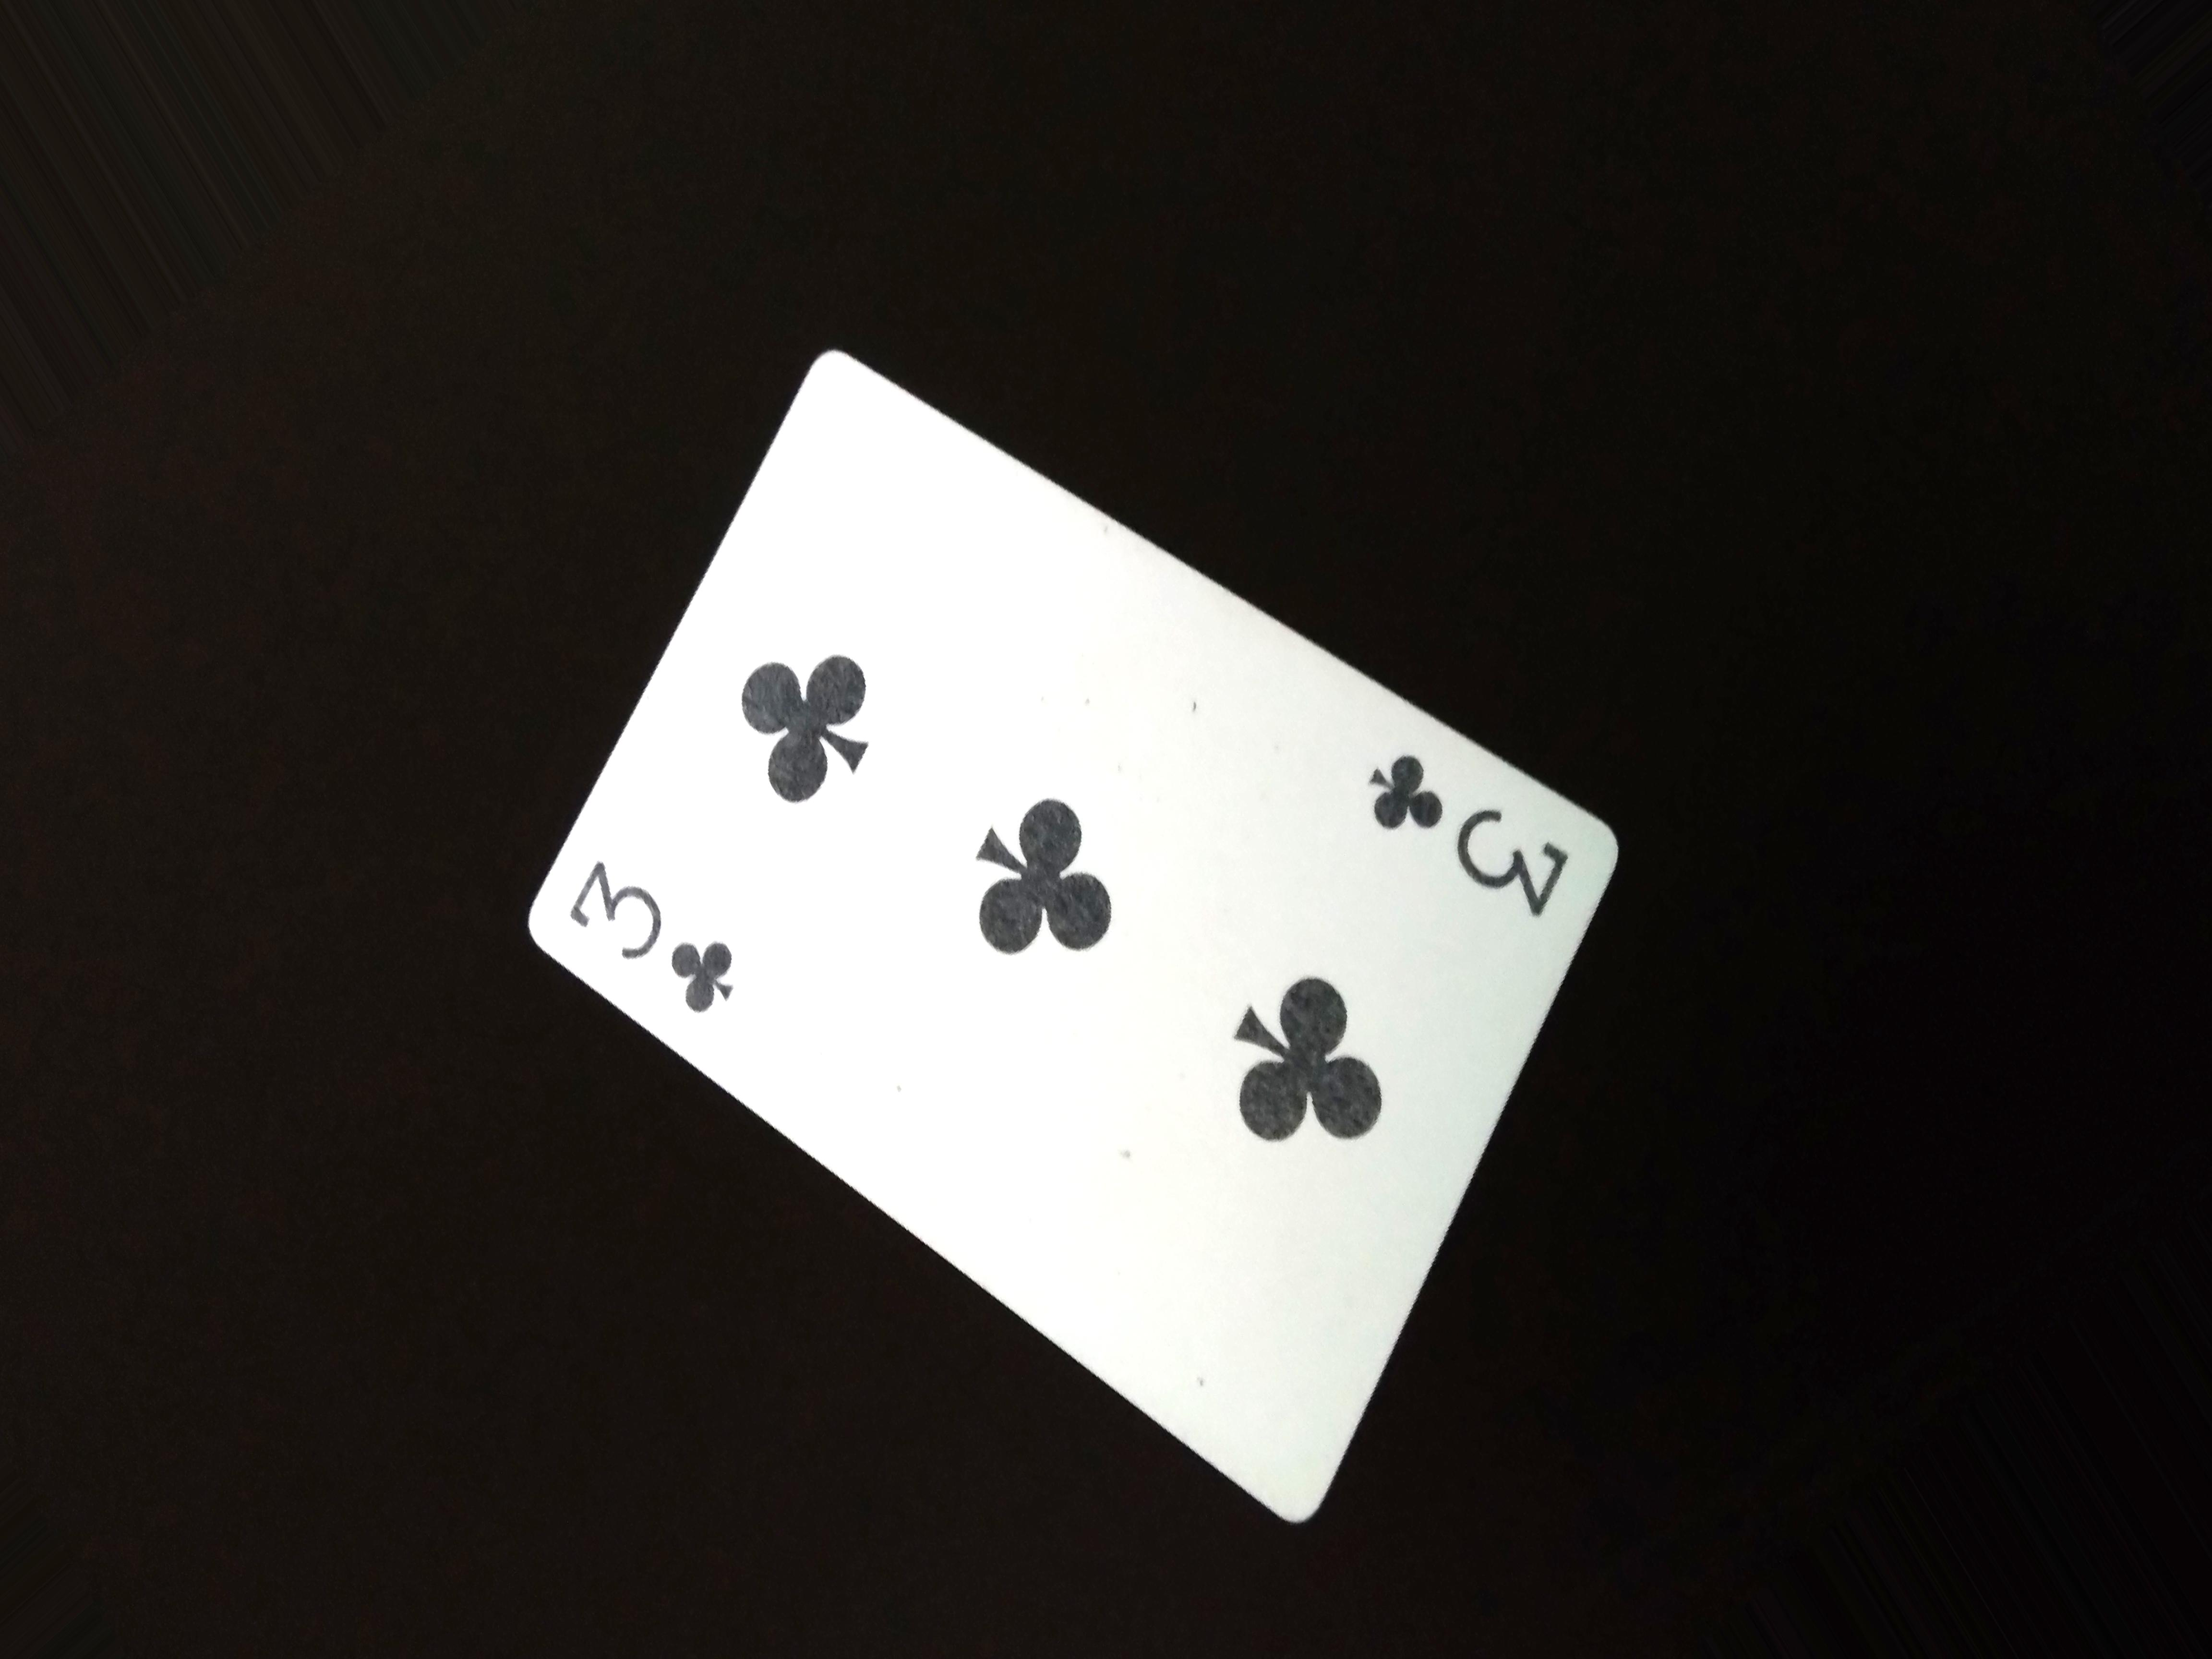3C: (1350, 753, 1597, 929)
